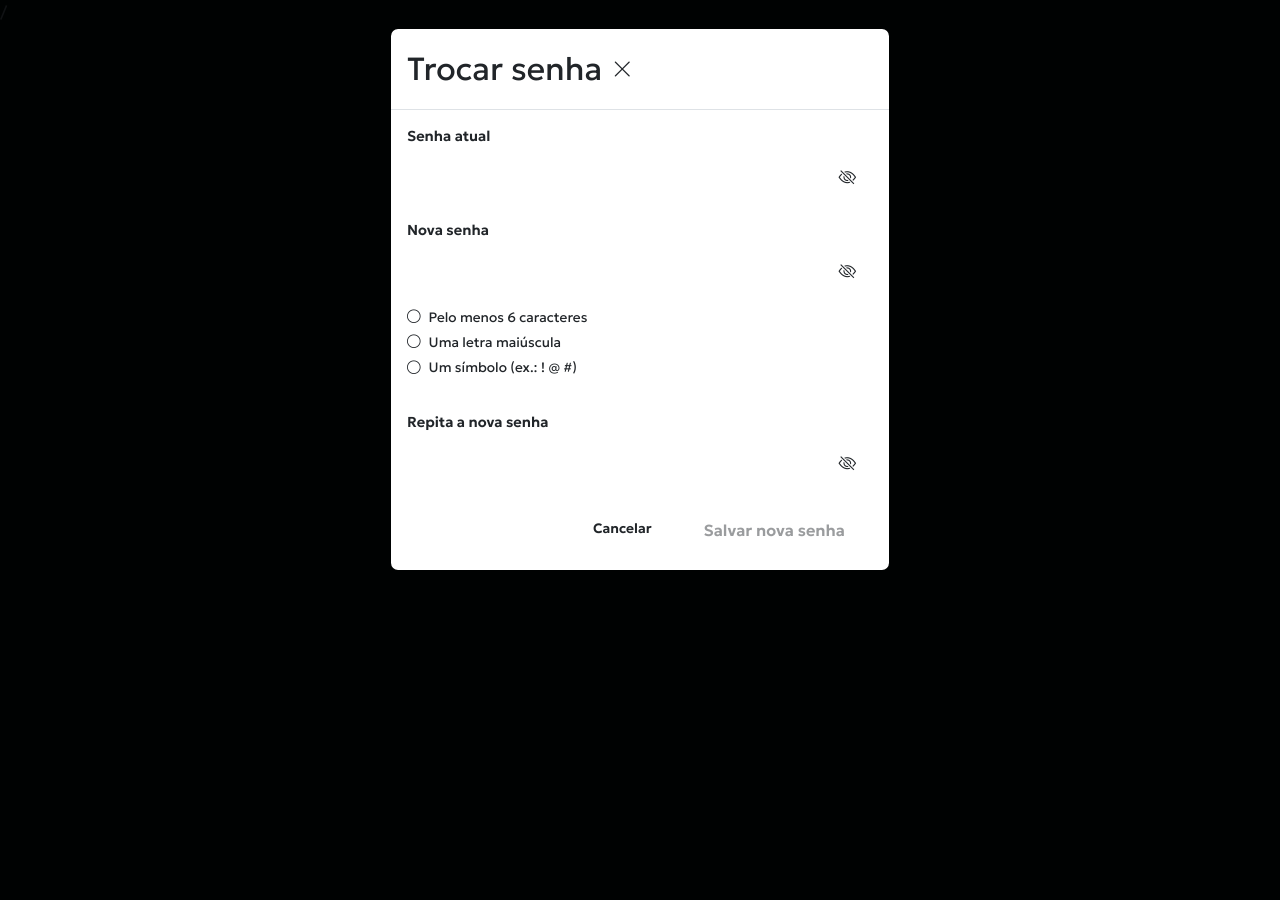
Scenario: ChangePasswordModal › mostra o erro do servidor (ex.: senha atual errada) e mantém o formulário
Step 1. Type "Atual!1" into the password field labelled "Senha atual" → x=640, y=178, box [407,154,873,202]
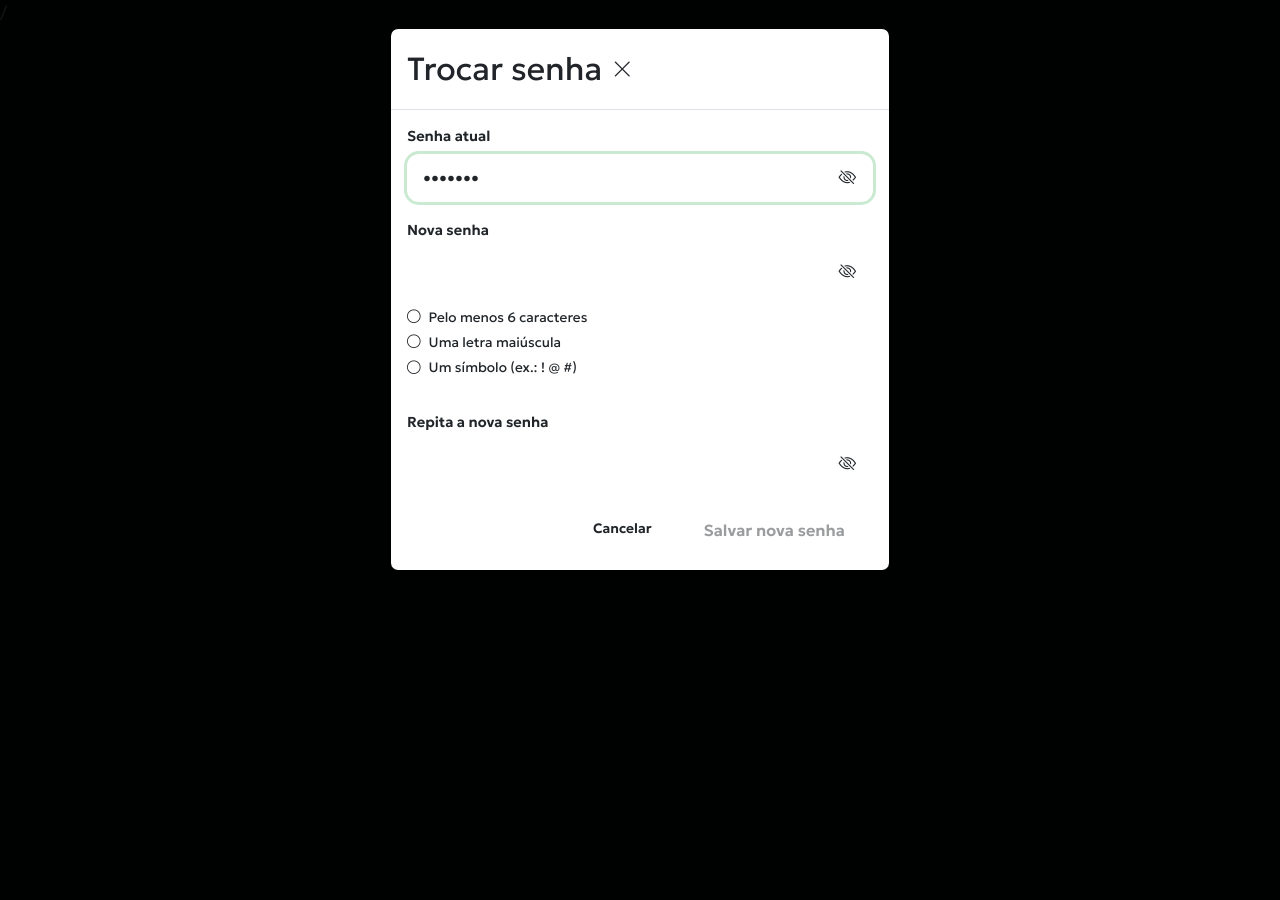
Step 2. Type "Nova!123" into the password field labelled "Nova senha" → x=640, y=272, box [407,248,873,296]
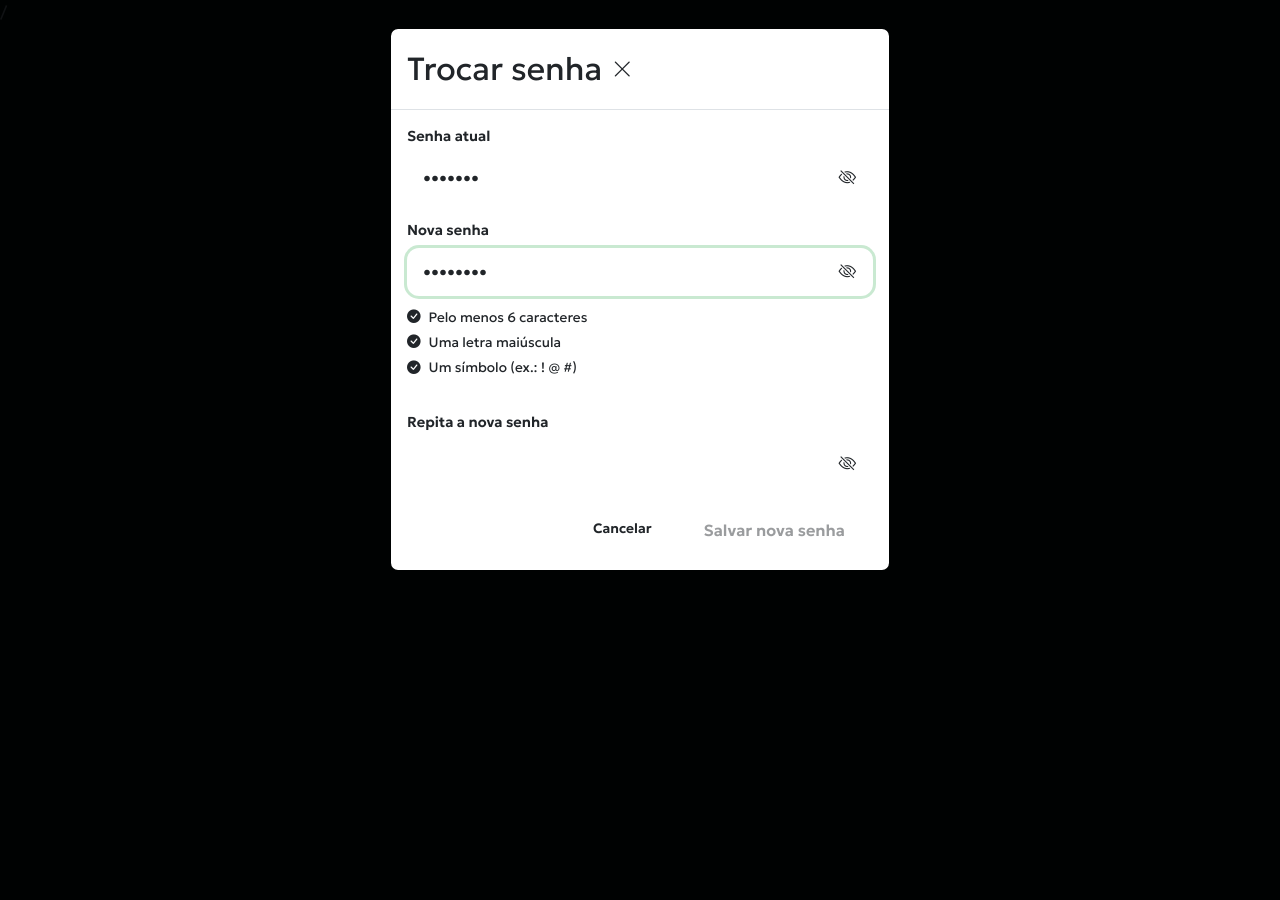
Step 3. Type "Nova!123" into the password field labelled "Repita a nova senha" → x=640, y=464, box [407,440,873,488]
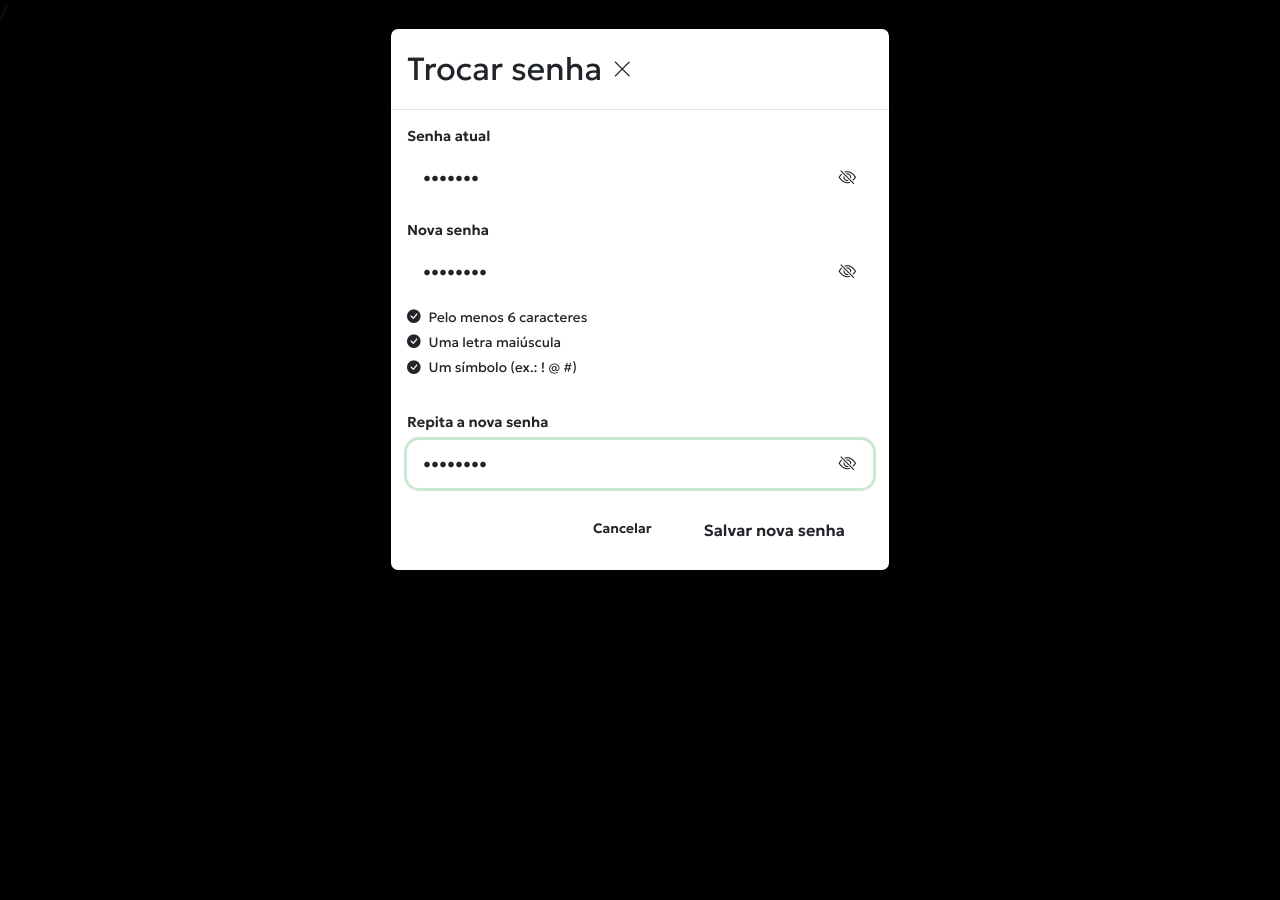
Step 4. Click the button "Salvar nova senha" → x=774, y=530, box [676,506,873,554]
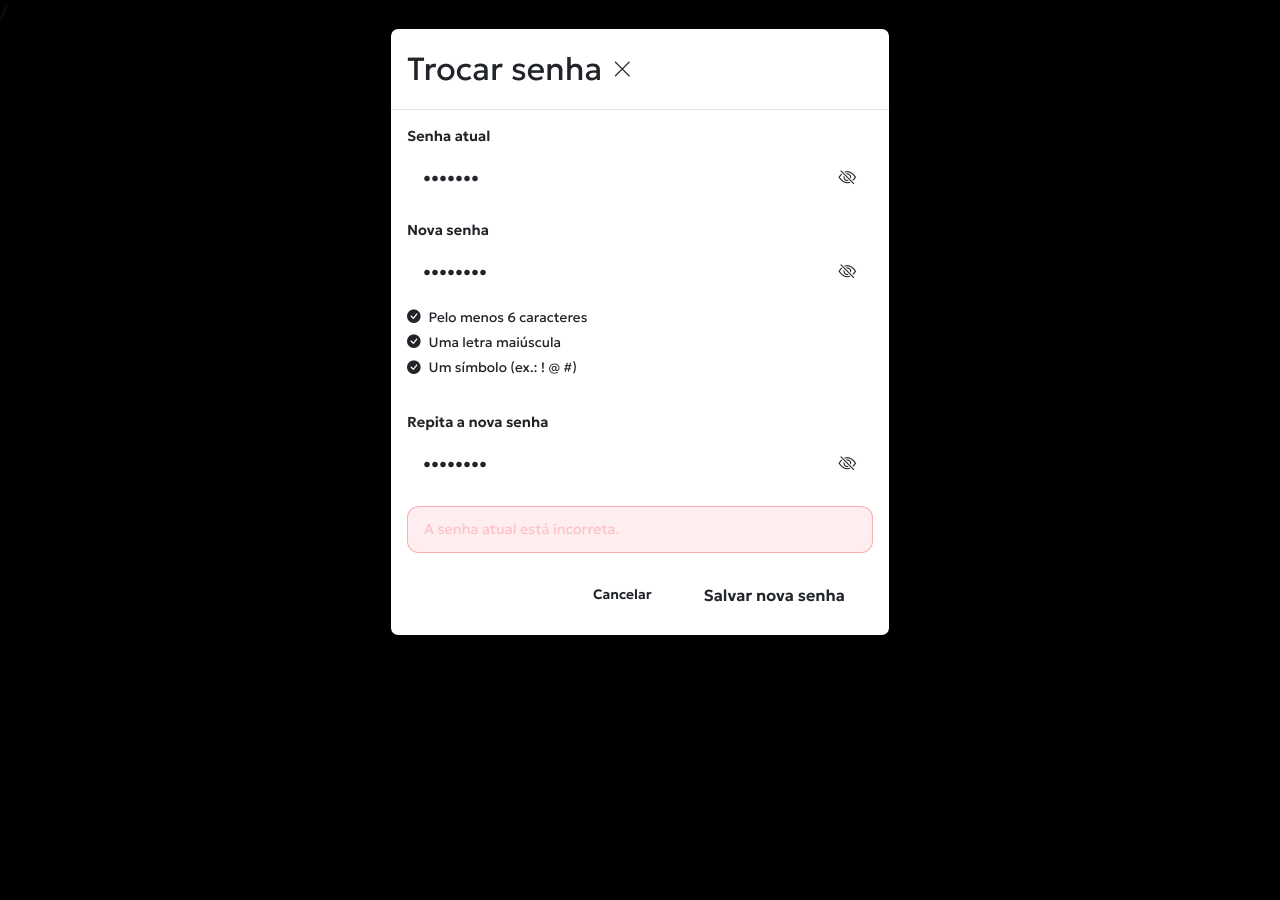
Check: the button "Salvar nova senha" is enabled, box [676,571,873,619]
Check: the message reads "A senha atual está incorreta.", box [424,520,619,538]
